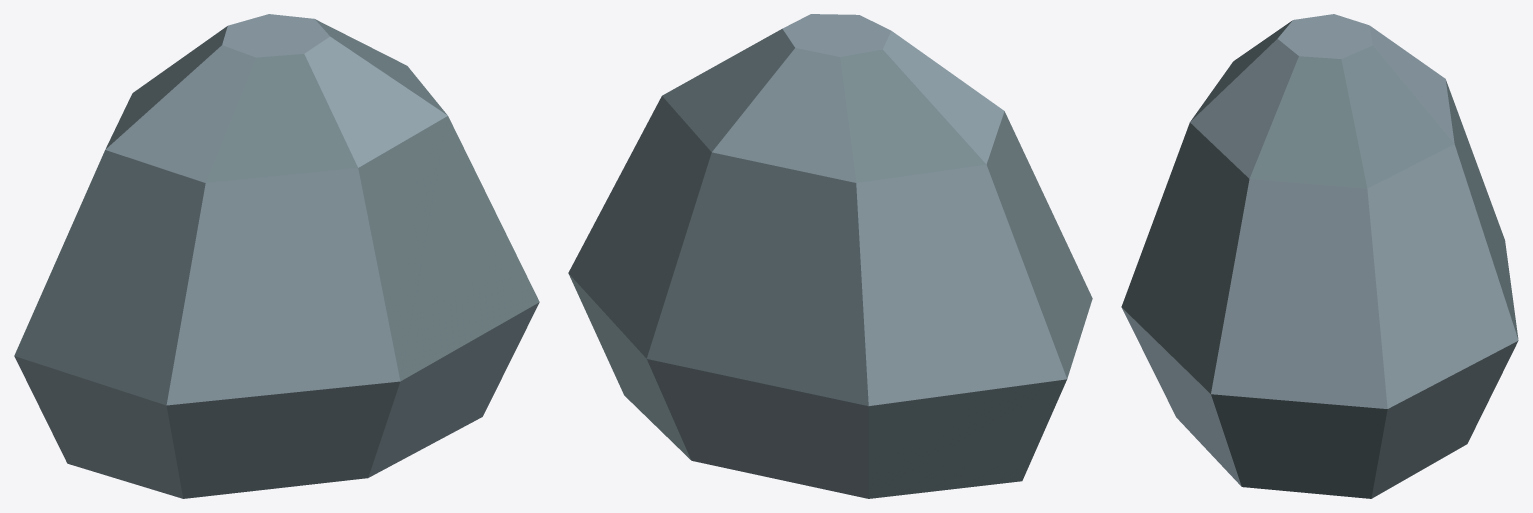
Rendered from ENV_F_Rock.fbx.
3 views of the same model, side by side, from view 1: azimuth 30°, elevation 25°; view 2: azimuth 150°, elevation 25°; view 3: azimuth 270°, elevation 25° (orthographic). The views are drawn at different scales.
Visible parts, largest first — view 1: ENV_F_Rock; view 2: ENV_F_Rock; view 3: ENV_F_Rock.
Part boxes in pixels (left/top/right/bottom): ENV_F_Rock: left=14, top=14, right=539, bottom=498; ENV_F_Rock: left=568, top=14, right=1092, bottom=498; ENV_F_Rock: left=1121, top=14, right=1518, bottom=498.
Size of the model in its own units: 194 by 150 by 145.
